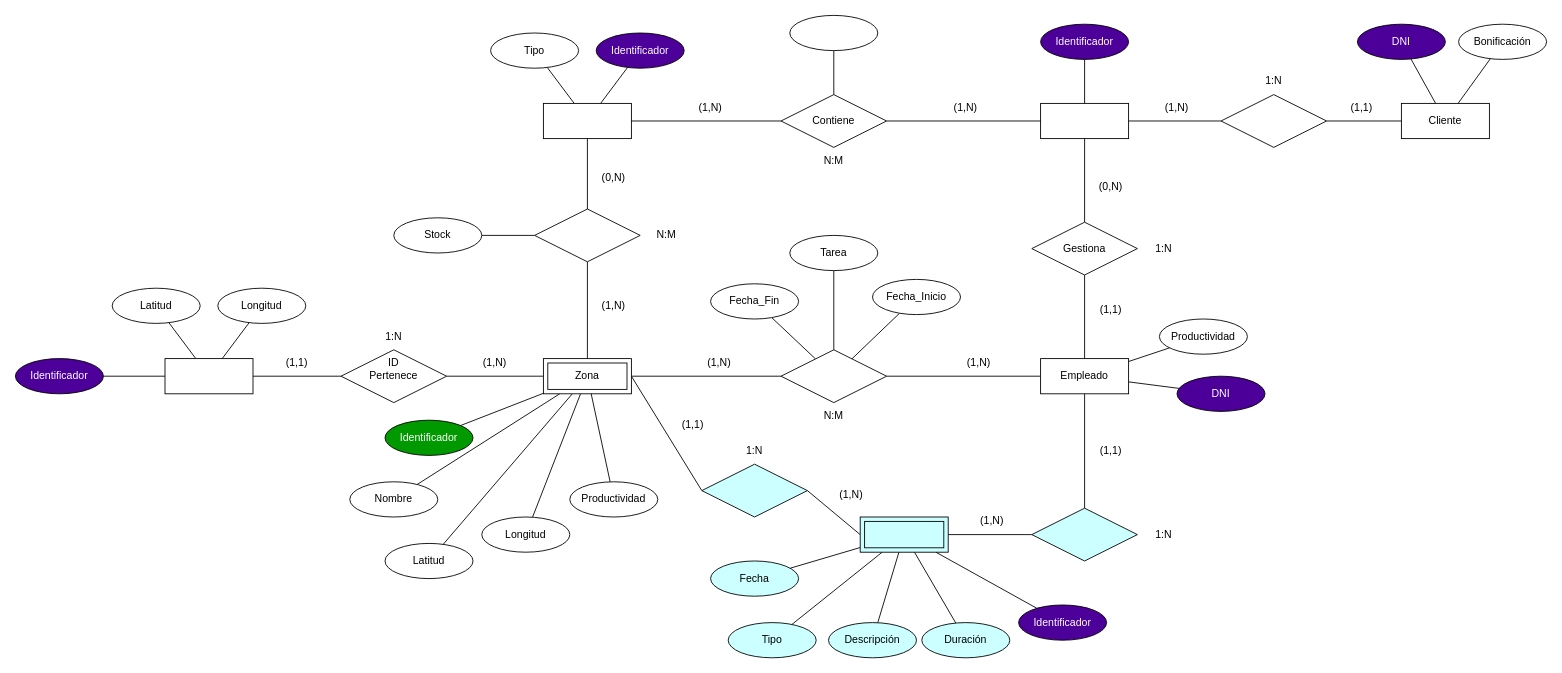
Image size: 1562x673. Some labels were removed from this diagram. The shapes that lost their labels are listed below. From the top down, each one's centre as x and y in pixels, then its label:
(833,33): Cantidad
(587,121): Producto
(1084,121): Pedido
(1273,120): Hecho por
(587,235): Asignado
(208,376): Vivero
(833,376): Destinado
(754,490): Asociada
(903,534): Tarea mantenimiento
(1084,534): Realiza
